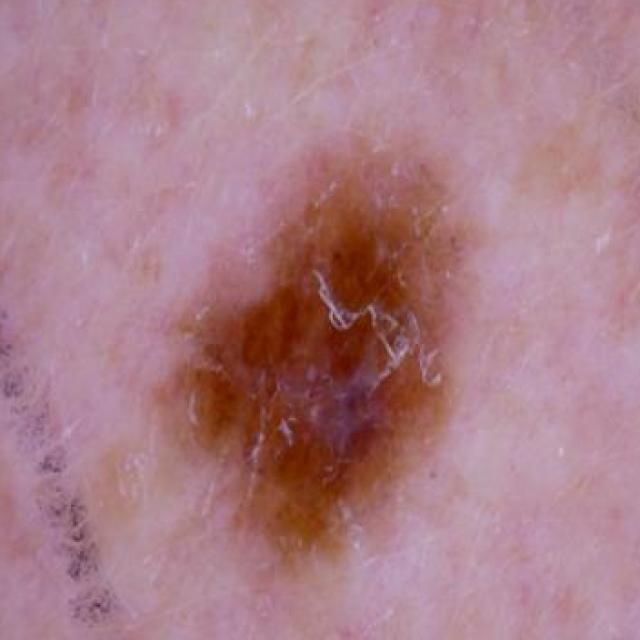NV: (136, 139, 464, 612)
